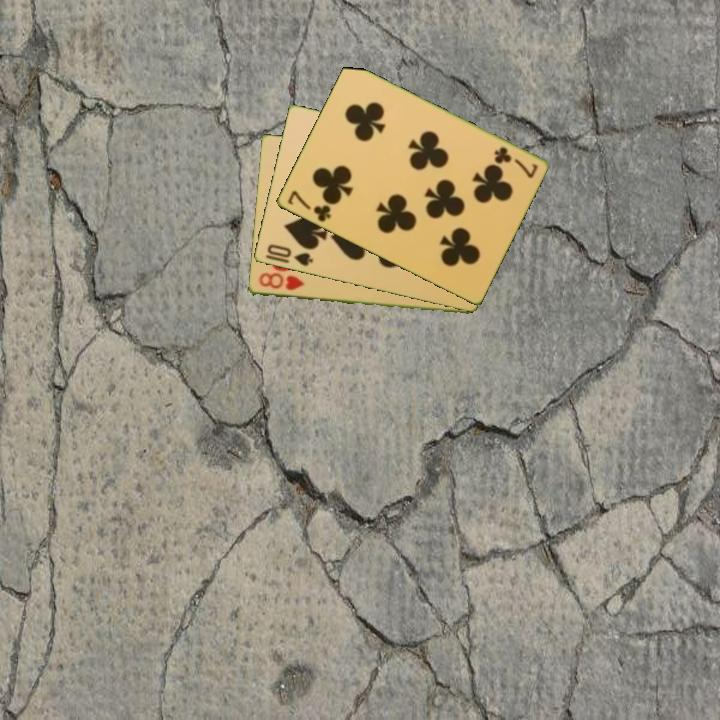10s: (263, 241, 316, 269)
7c: (490, 143, 541, 181), (283, 187, 333, 225)
8h: (255, 270, 307, 293)
